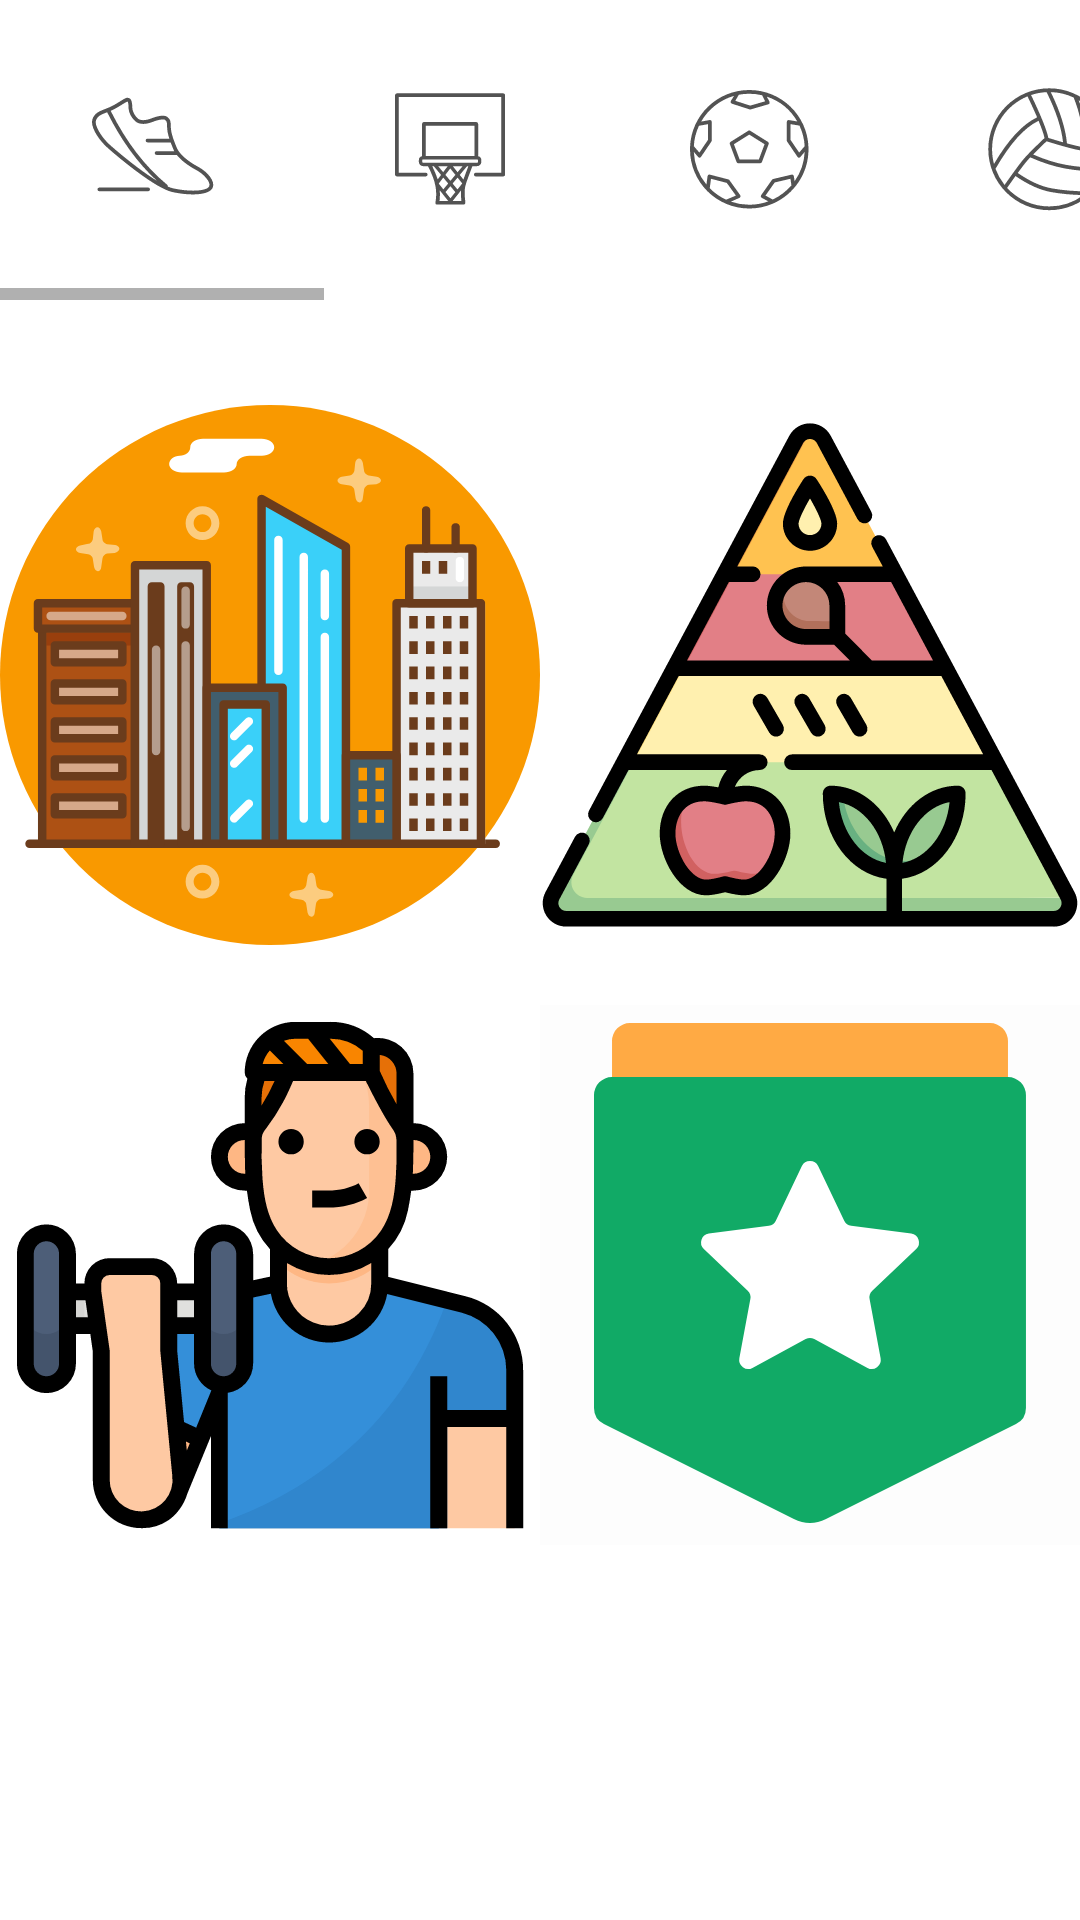

Point at icon controls on the screen. Image size 1080 × 1920, points as (x=x, y=y).
lanqiu: (x=450, y=149)
zuqiu: (x=749, y=149)
